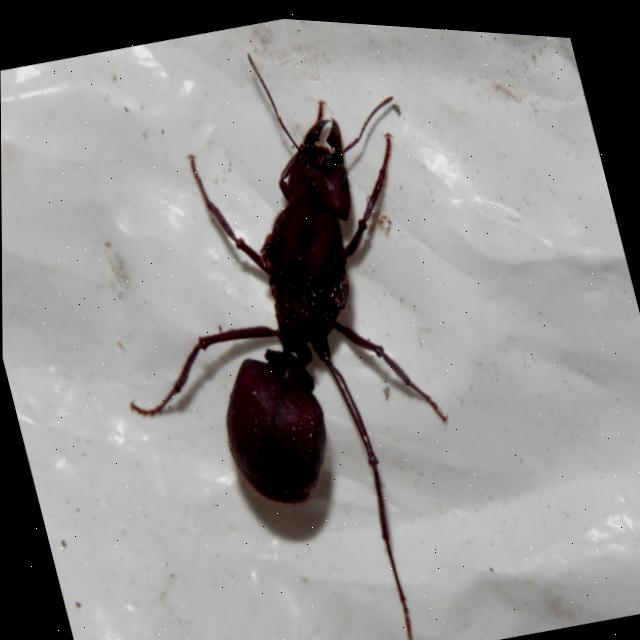Alive-Female-Dealate: (48, 6, 524, 640)
